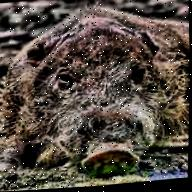boar: (0, 0, 185, 182)
